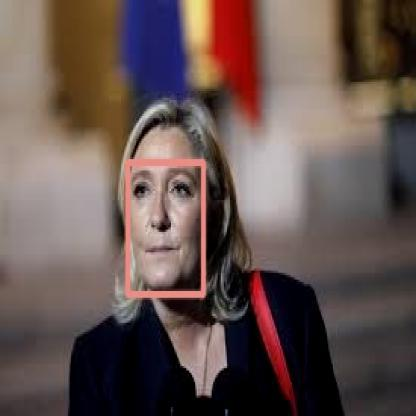without_mask: (127, 162, 203, 294)
